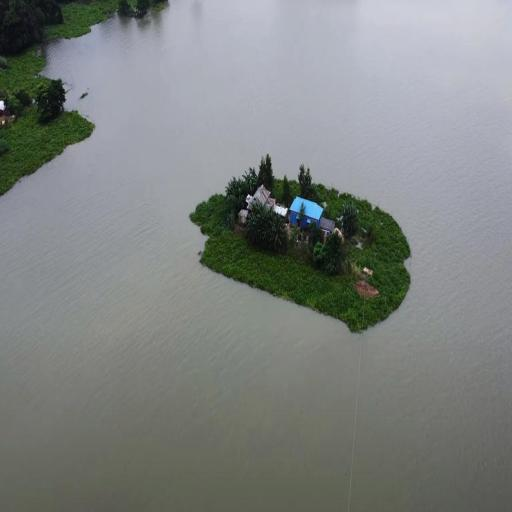flood: (0, 0, 512, 512)
house: (288, 196, 326, 232), (244, 180, 278, 210)
